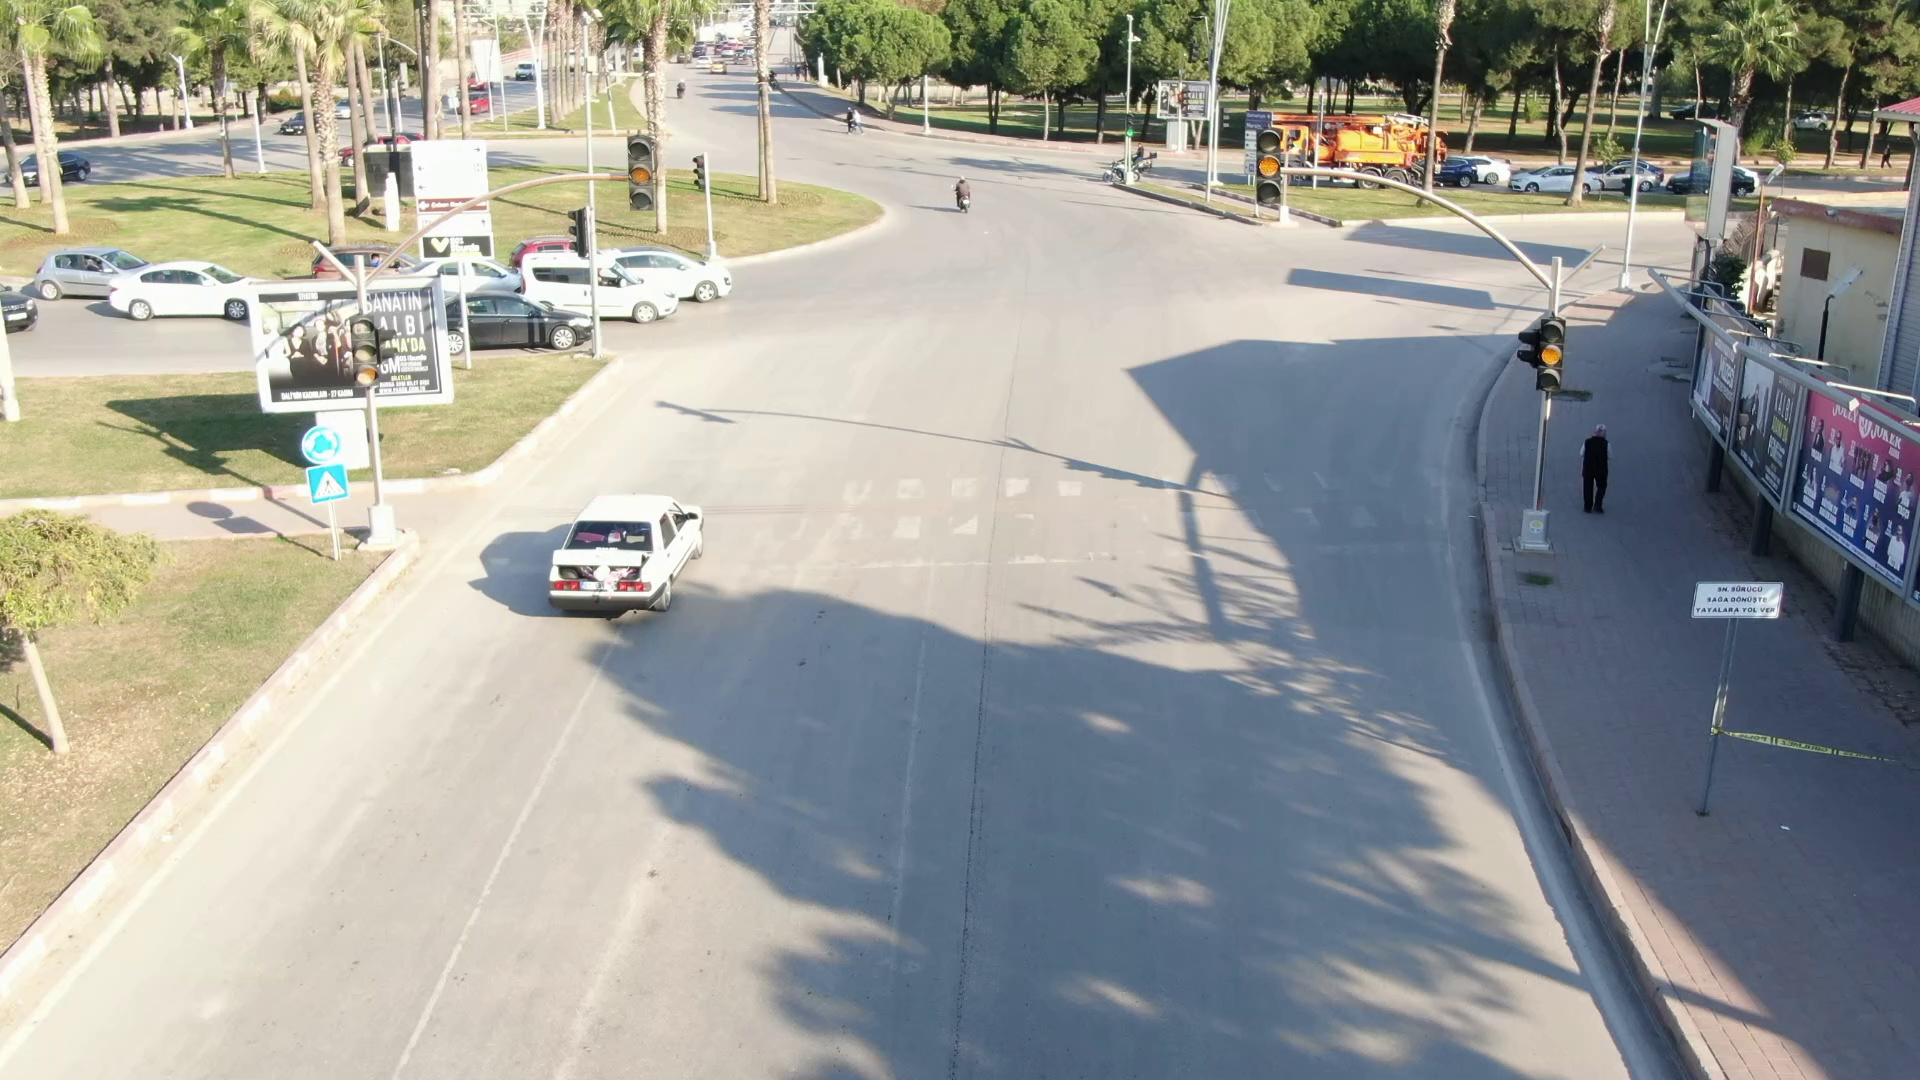car: (529, 492, 725, 610), (515, 243, 680, 321), (449, 290, 604, 355), (106, 259, 251, 323), (592, 239, 741, 300), (31, 235, 157, 292)
person: (1572, 414, 1625, 521), (945, 166, 982, 212)
